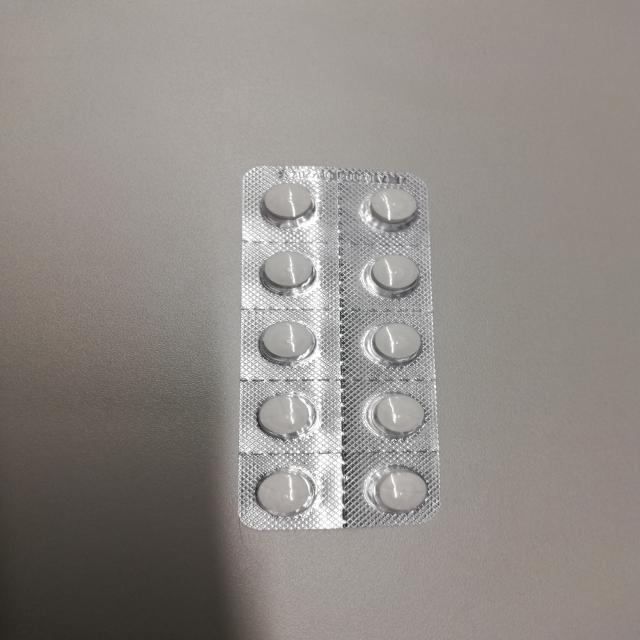Pill: (243, 465, 326, 521), (358, 250, 430, 300), (248, 246, 322, 294), (250, 389, 317, 442), (363, 462, 430, 514), (254, 178, 326, 226), (366, 390, 432, 440), (361, 319, 426, 366), (254, 316, 315, 366), (359, 182, 422, 229)
